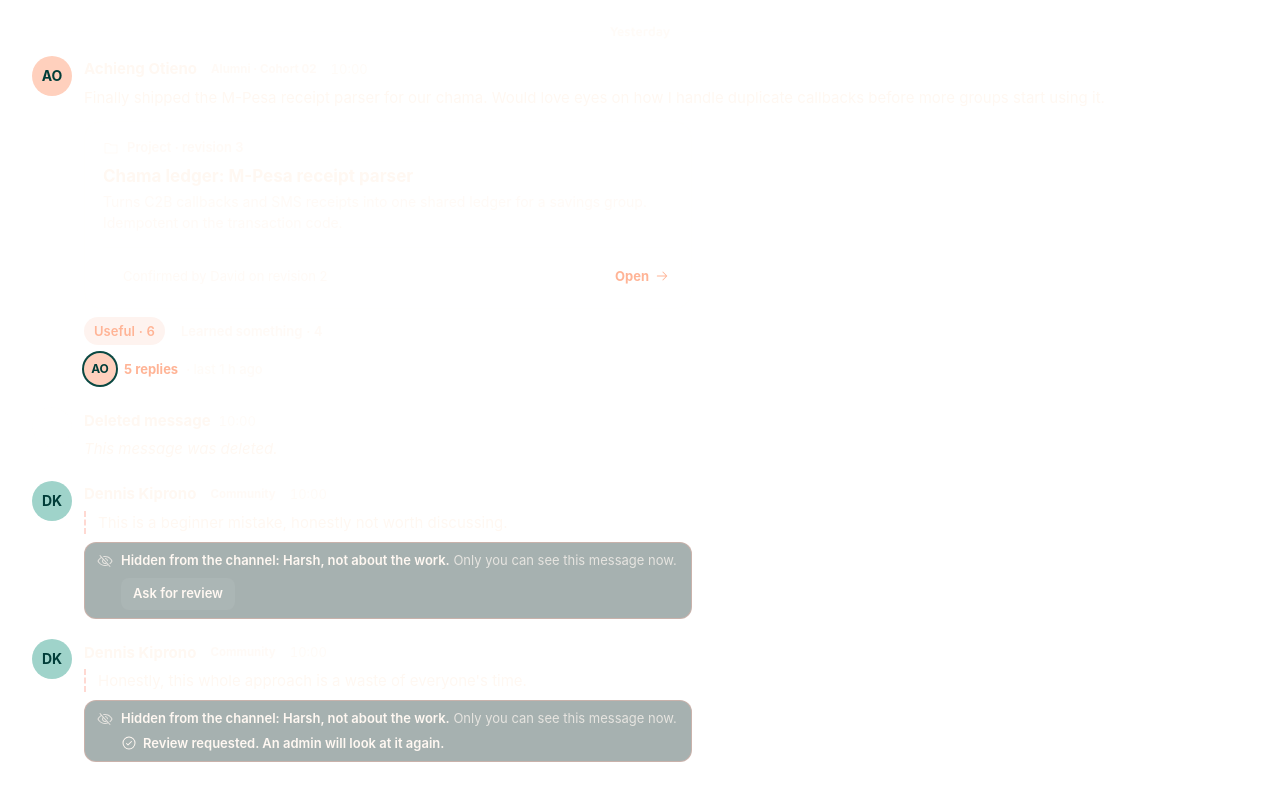
Test: the author's own flagged and hidden messages › keeps the form and says why when the server refuses a review, and asks nothing
Click the button "Ask for review" at (178, 594), box 121,578 -> 235,610
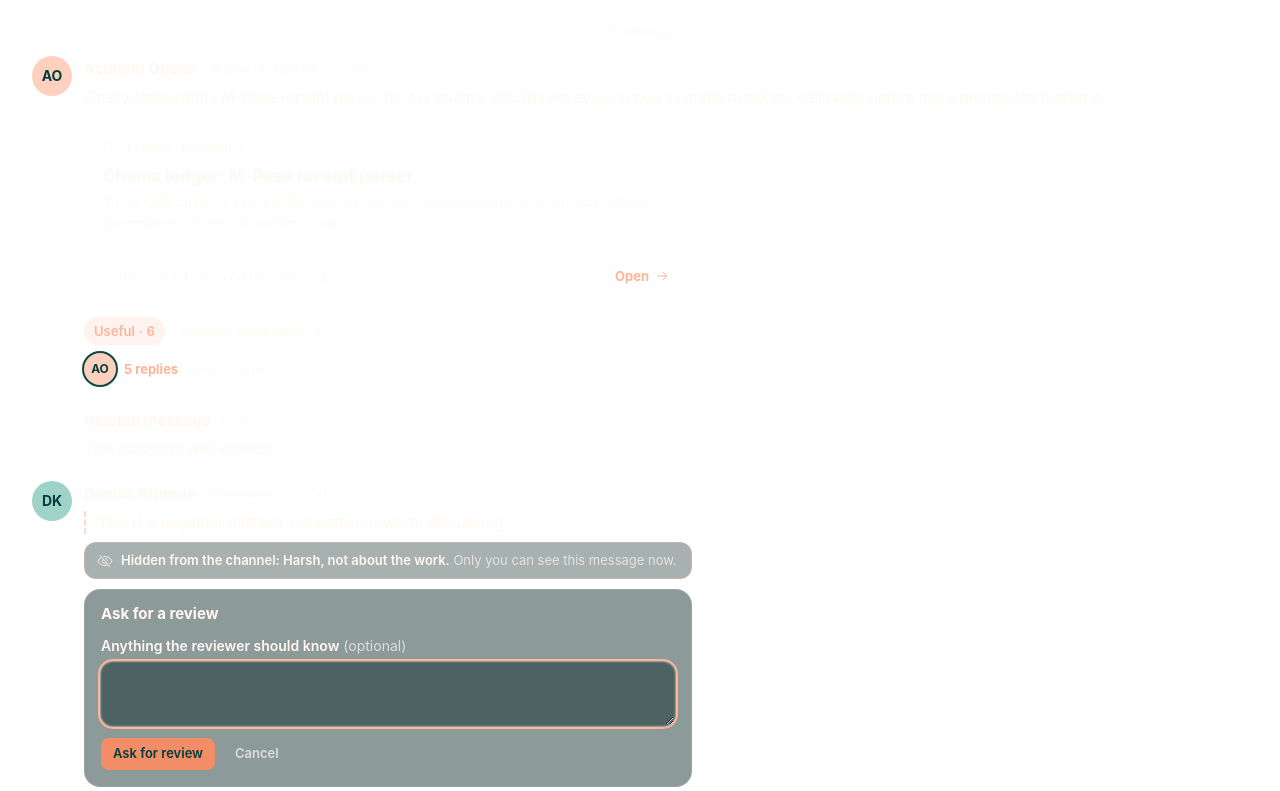
Click the submit button at (158, 754), box 101,738 -> 215,770
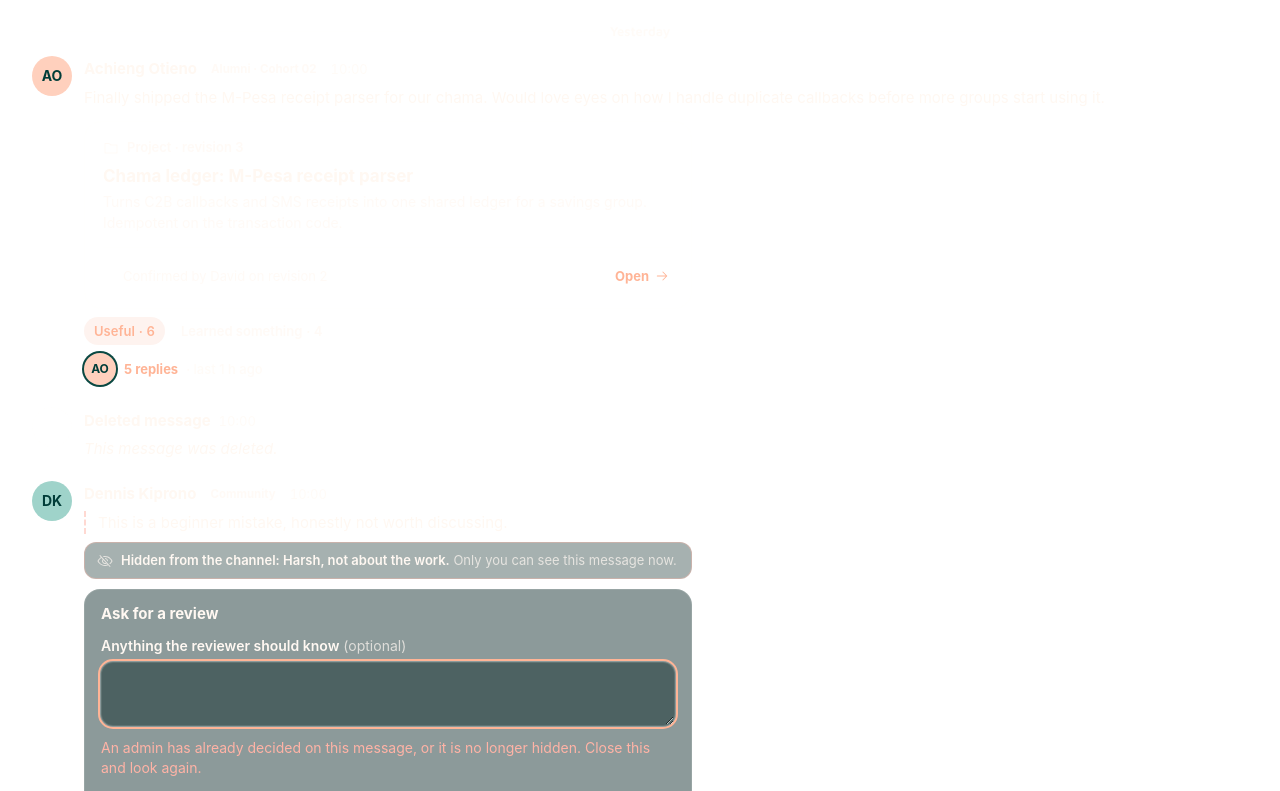
Check: the message shows "An admin has already decided on this message, or it is no longer hidden. Close this and look again.", box 101,739 -> 650,776
